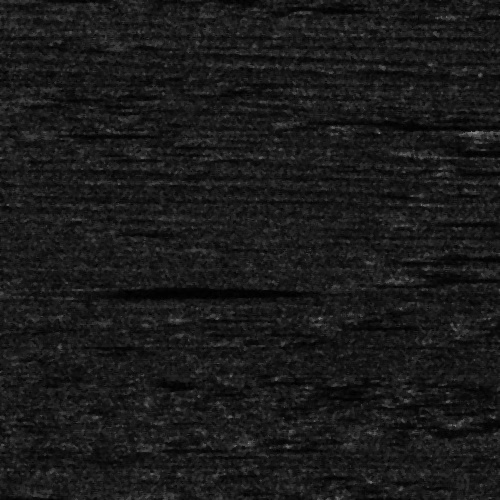object: (0, 285, 100, 298), (375, 146, 490, 157), (396, 269, 459, 280), (446, 125, 500, 134), (336, 122, 399, 127), (16, 130, 69, 135)
shadow: (38, 285, 231, 298), (428, 269, 500, 280), (433, 146, 500, 157), (368, 122, 500, 127), (43, 130, 138, 135), (0, 492, 43, 500)
